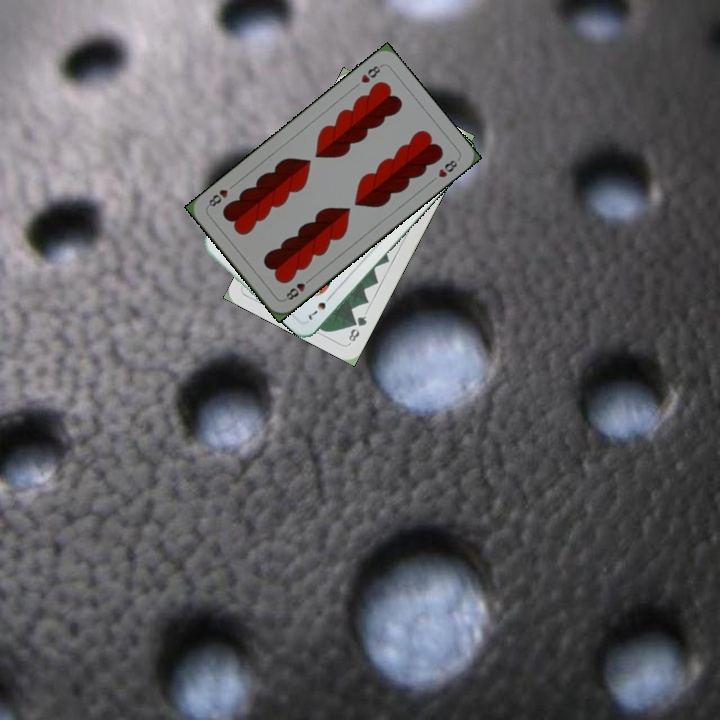G8: (344, 312, 369, 344)
H8: (280, 273, 315, 303), (357, 61, 385, 86)
S7: (304, 290, 335, 322)
